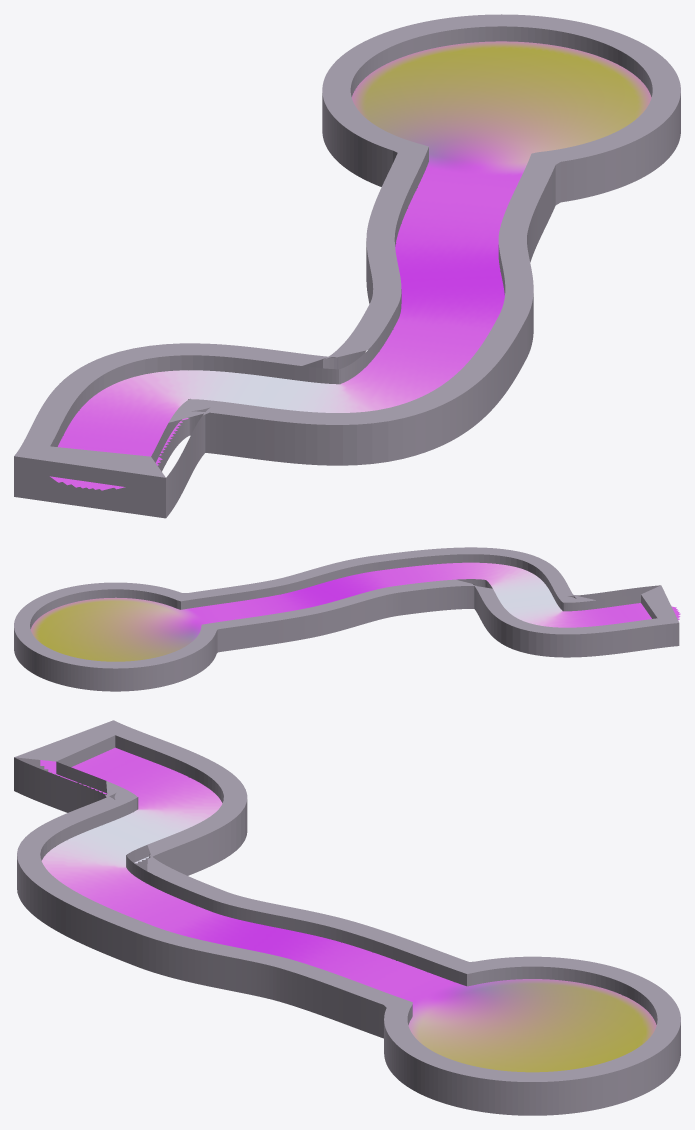
Rendered from slime_river.glb.
3 renders of one model, top to bottom at view 1: azimuth 30°, elevation 25°; view 2: azimuth 150°, elevation 25°; view 3: azimuth 270°, elevation 25°, orthographic. The views are drawn at different scales.
Visible parts, largest first — view 1: banks, slime; view 2: banks, slime; view 3: banks, slime.
Boxes of the visible parts, x1,y1,x2,y2 form: banks: [14, 14, 680, 518]; slime: [50, 41, 651, 490]; banks: [14, 547, 679, 691]; slime: [30, 562, 680, 661]; banks: [14, 720, 680, 1115]; slime: [40, 747, 656, 1072].
Size of the model in its own units: 21.92 by 0.95 by 17.07.
